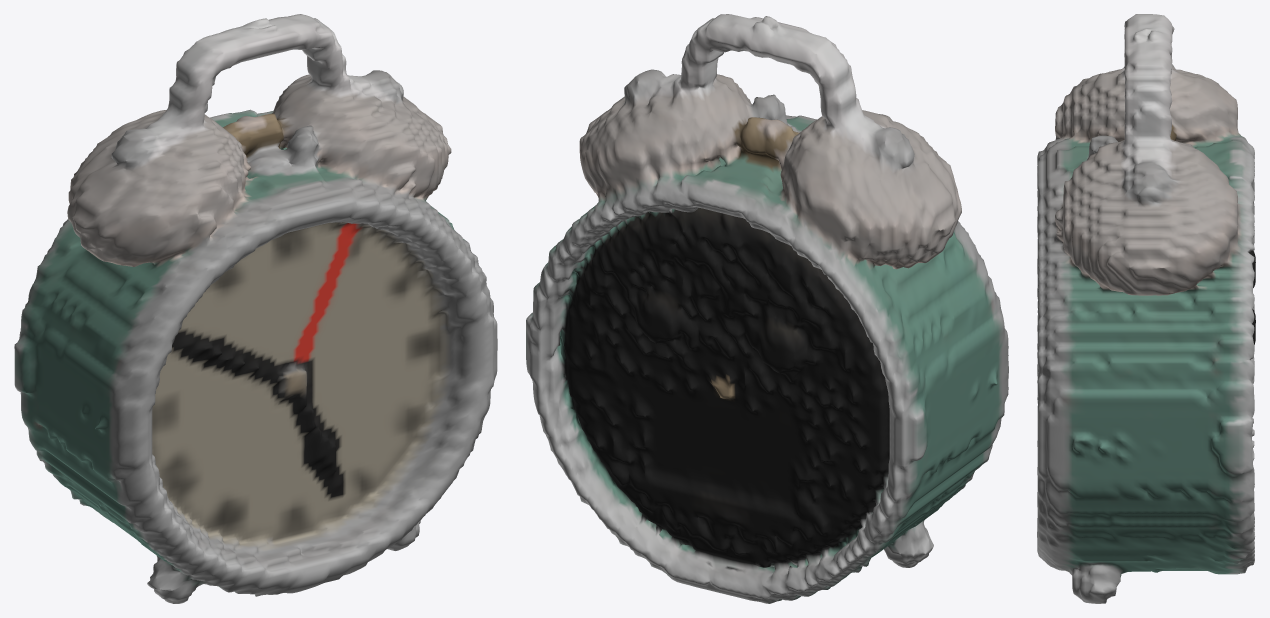
Rendered from alarm-clock.glb.
The picture shows the model from 3 angles, left to right: view 1: azimuth 30°, elevation 25°; view 2: azimuth 150°, elevation 25°; view 3: azimuth 270°, elevation 25°; orthographic projection. The views are drawn at different scales.
Visible parts, largest first — view 1: alarm-clock; view 2: alarm-clock; view 3: alarm-clock.
Part boxes in pixels (x1=…): alarm-clock: x1=14, y1=14, x2=497, y2=603; alarm-clock: x1=526, y1=14, x2=1008, y2=603; alarm-clock: x1=1037, y1=14, x2=1255, y2=603.
Bounding box in the file's own units: 0.077 × 0.1 × 0.038.
